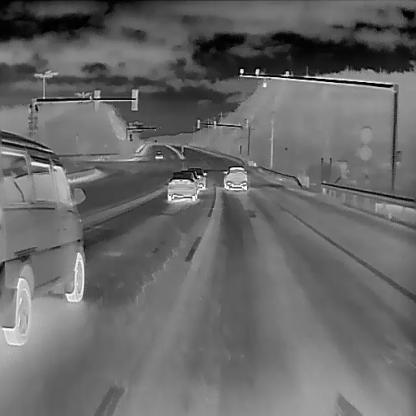car: (0, 128, 86, 346), (167, 170, 198, 201), (222, 163, 247, 191), (186, 166, 207, 190), (154, 149, 163, 159)
